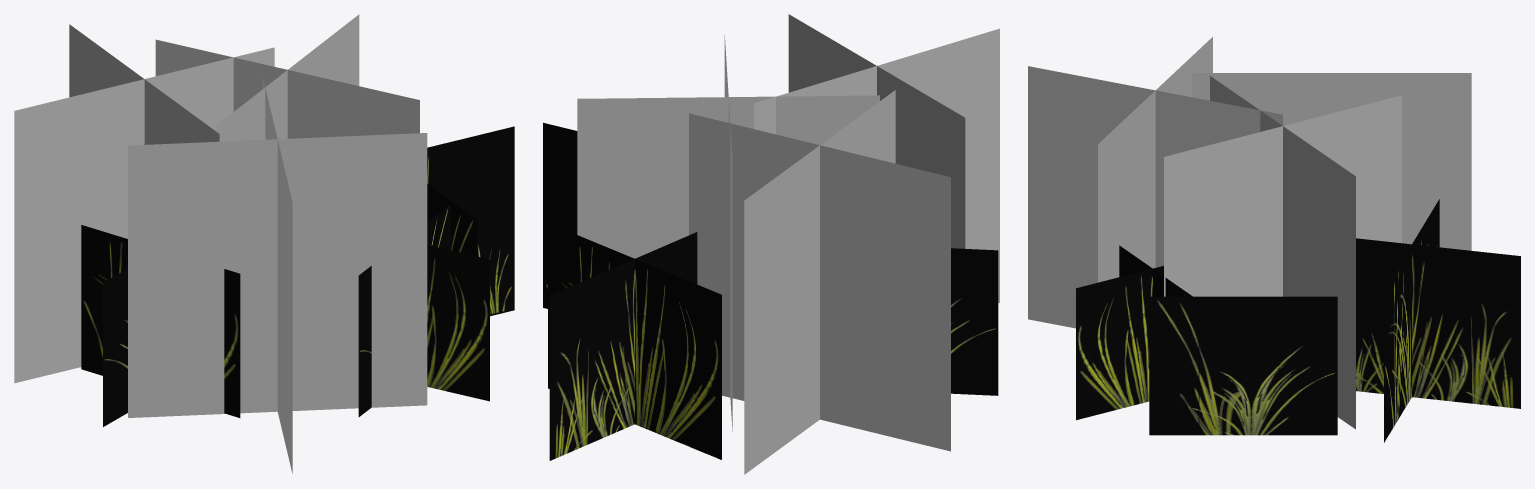
Rendered from grass_flower_patch1.fbx.
3 renders of one model, left to right at view 1: azimuth 30°, elevation 25°; view 2: azimuth 150°, elevation 25°; view 3: azimuth 270°, elevation 25°, orthographic. The views are drawn at different scales.
Parts seen in each view (by area): view 1: Plane.005, Plane.001; view 2: Plane.005, Plane.001; view 3: Plane.005, Plane.001.
Part boxes in pixels (<box>): Plane.005: <box>14,14,427,473</box>; Plane.001: <box>81,126,514,426</box>; Plane.005: <box>577,14,999,474</box>; Plane.001: <box>543,122,998,460</box>; Plane.005: <box>1028,37,1471,429</box>; Plane.001: <box>1076,199,1520,442</box>.
Size of the model in its own units: 65.02 by 38.43 by 65.94.
